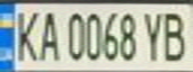0: (84, 8, 106, 62), (63, 8, 84, 62)
6: (103, 8, 121, 62)
8: (118, 8, 142, 61)
A: (33, 7, 63, 62)
B: (160, 7, 190, 62)
K: (9, 6, 42, 63)
Y: (139, 8, 169, 63)
